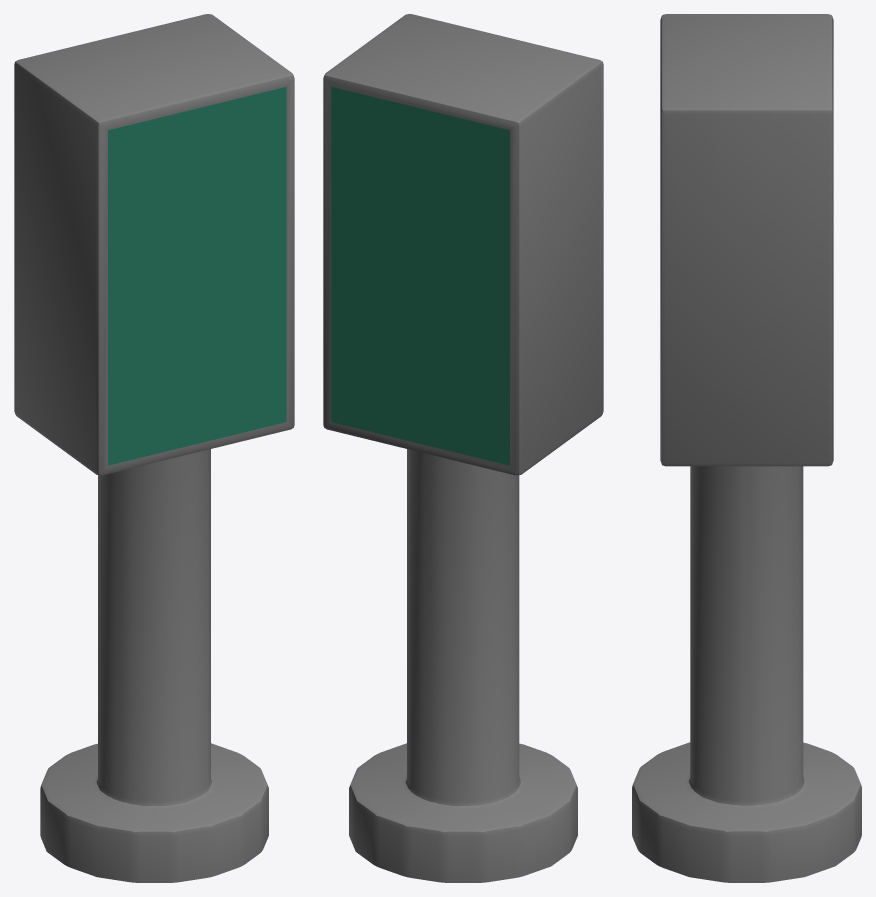
File: TrafficLight.fbx
3 views of the same model, side by side, from view 1: azimuth 30°, elevation 25°; view 2: azimuth 150°, elevation 25°; view 3: azimuth 270°, elevation 25° (orthographic).
Parts seen in each view (by area): view 1: lights, face; view 2: lights, face2; view 3: lights.
Part boxes in pixels (x1=…): lights: x1=14, y1=14, x2=294, y2=882; face: x1=108, y1=87, x2=286, y2=465; lights: x1=323, y1=14, x2=603, y2=882; face2: x1=331, y1=87, x2=509, y2=465; lights: x1=632, y1=14, x2=861, y2=882.
Bounding box in the file's own units: 20 × 73.99 × 19.91.
